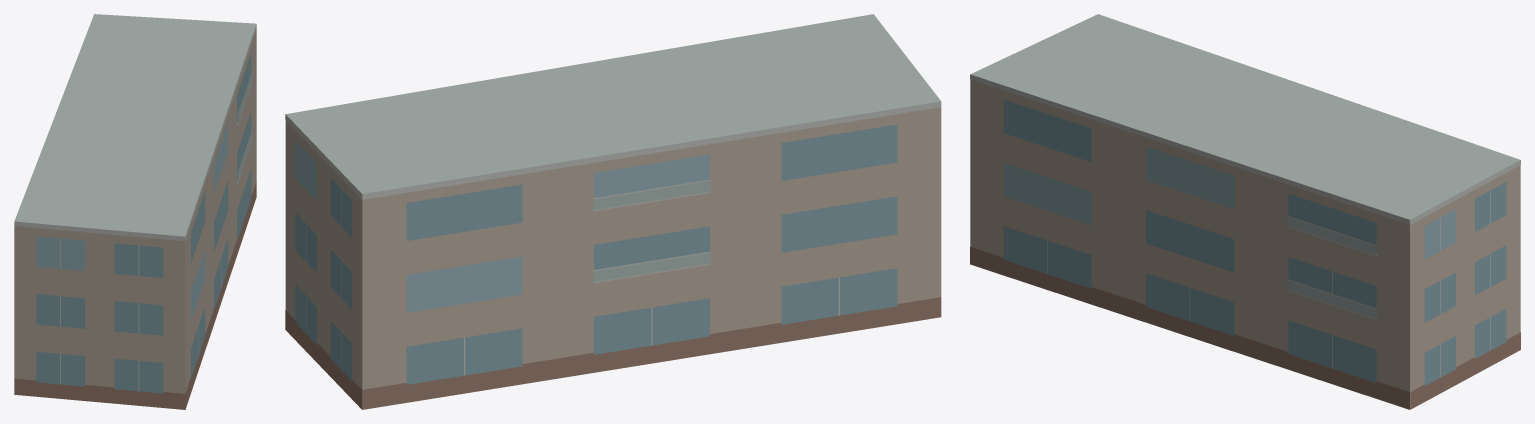
The model's file is survey-upis-32564212.glb.
3 views of the same model, side by side, from view 1: azimuth 30°, elevation 25°; view 2: azimuth 150°, elevation 25°; view 3: azimuth 270°, elevation 25° (orthographic). The views are drawn at different scales.
Parts seen in each view (by area): view 1: survey-upis-32564212.tmp; view 2: survey-upis-32564212.tmp; view 3: survey-upis-32564212.tmp.
Boxes of the visible parts, left/top/right/bottom form: survey-upis-32564212.tmp: left=14, top=14, right=256, bottom=409; survey-upis-32564212.tmp: left=285, top=14, right=941, bottom=409; survey-upis-32564212.tmp: left=970, top=14, right=1520, bottom=409.
Bounding box in the file's own units: 21.15 × 9.1 × 23.9.
